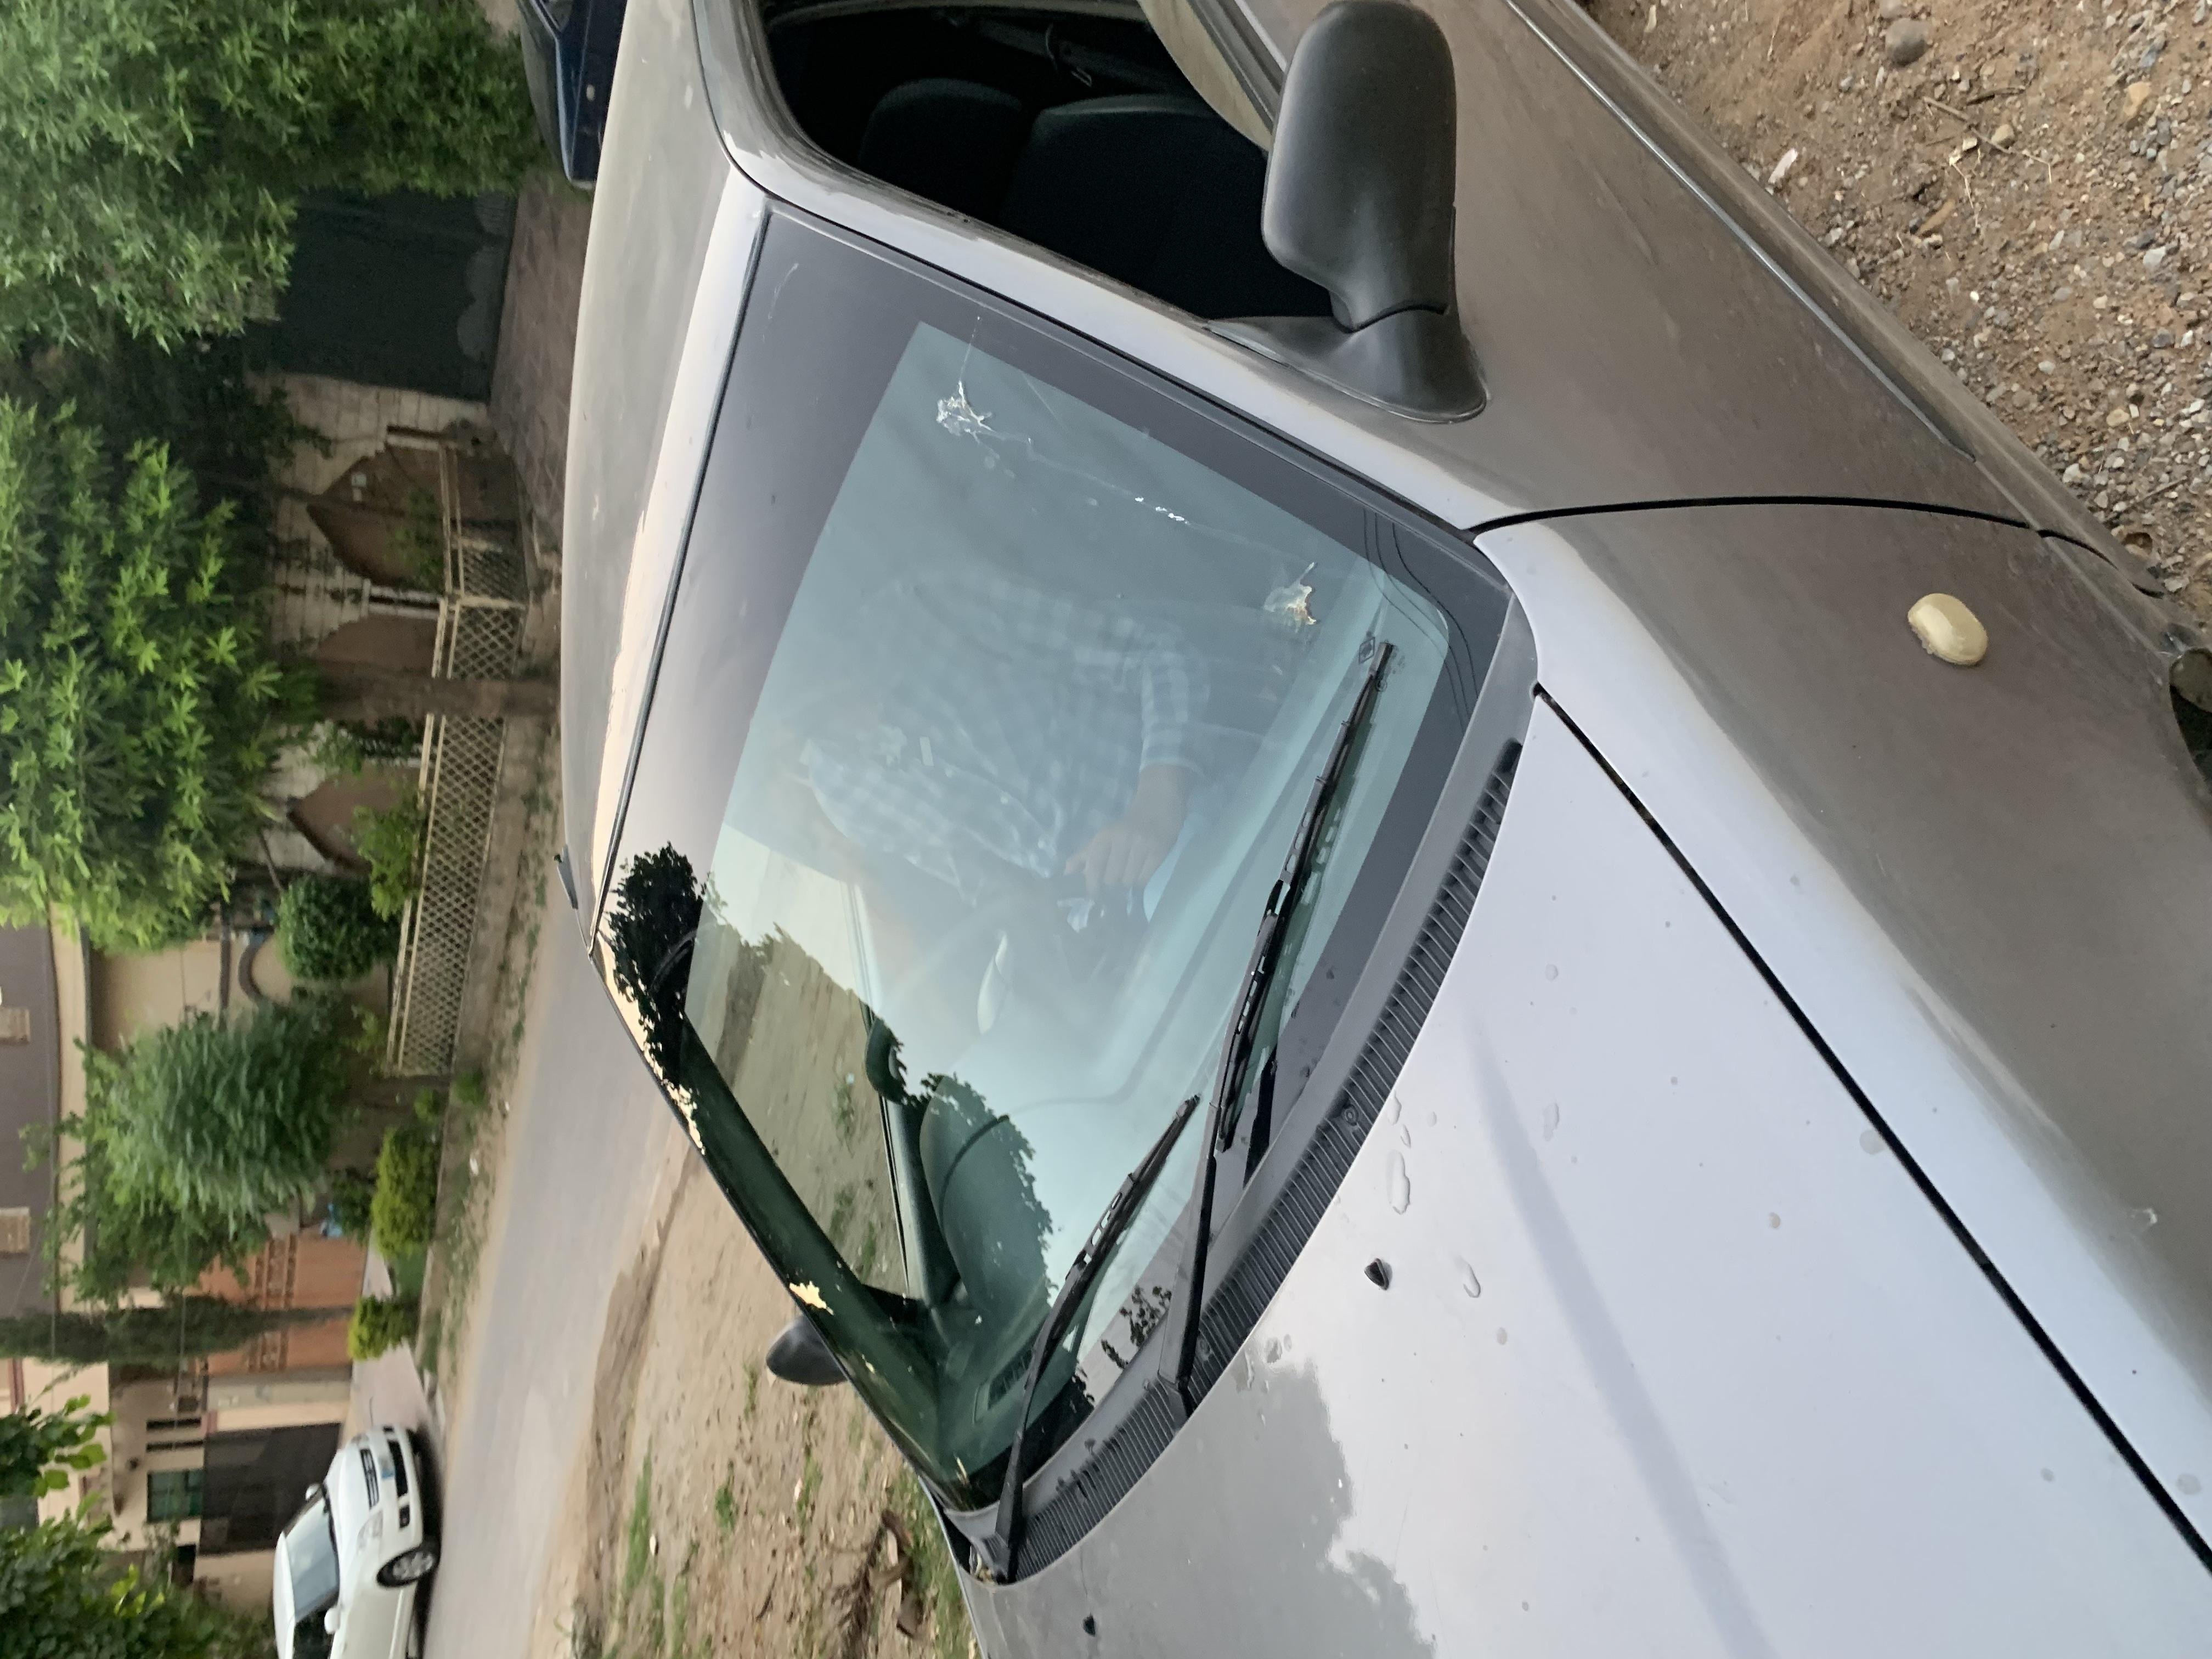windshield: (75, 415, 1991, 1169)
